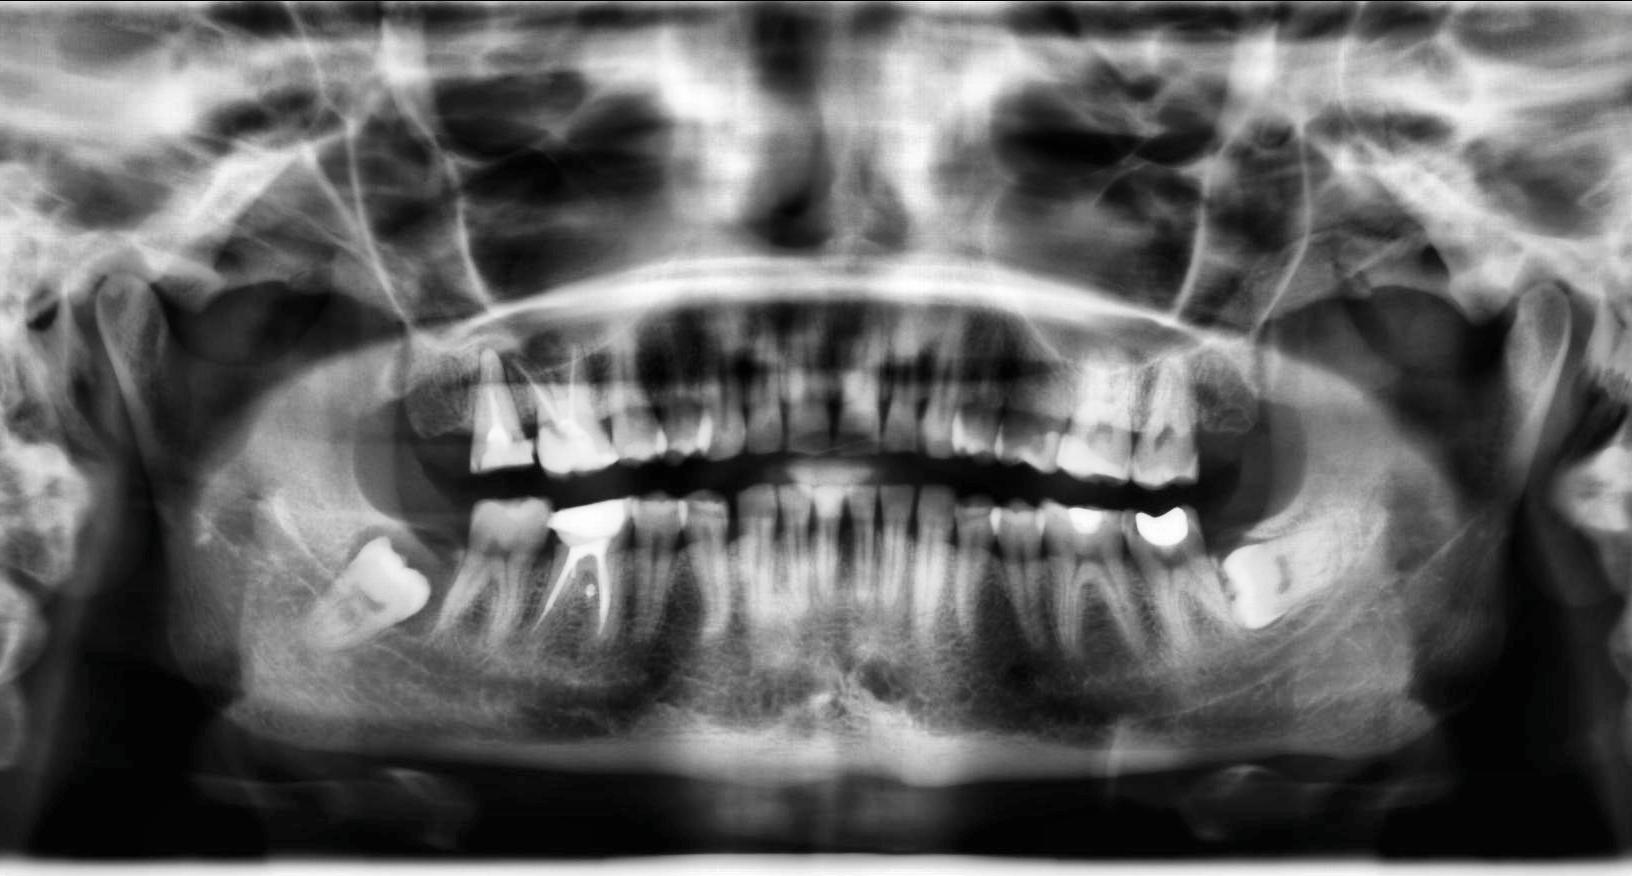dentigeroz: (343, 522, 460, 639)
